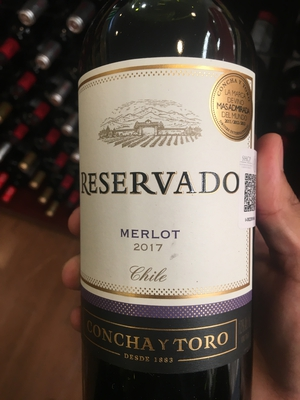reservado merlot: (67, 16, 254, 400)
